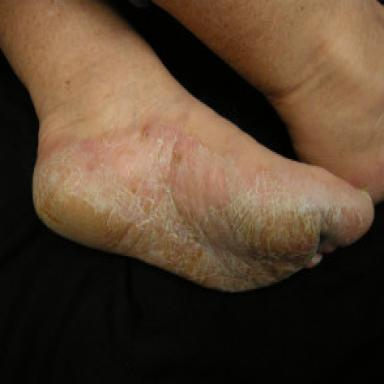eczema: (35, 114, 372, 291)
